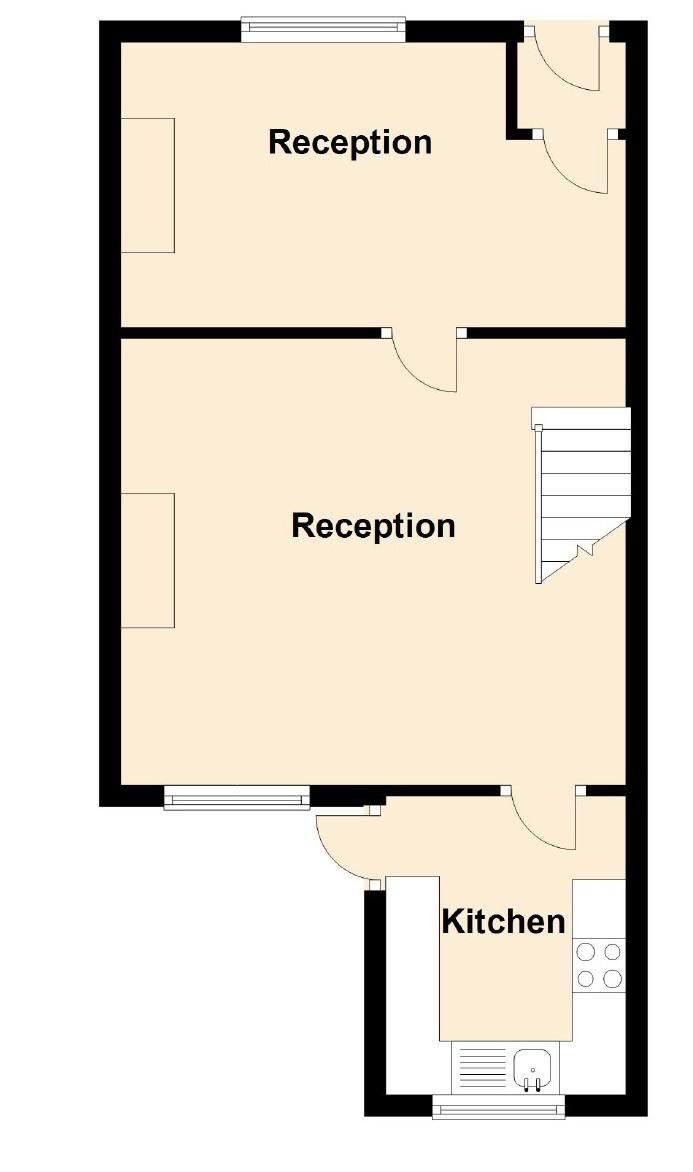room: (104, 324, 647, 806), (101, 19, 643, 335), (363, 783, 647, 1123)
